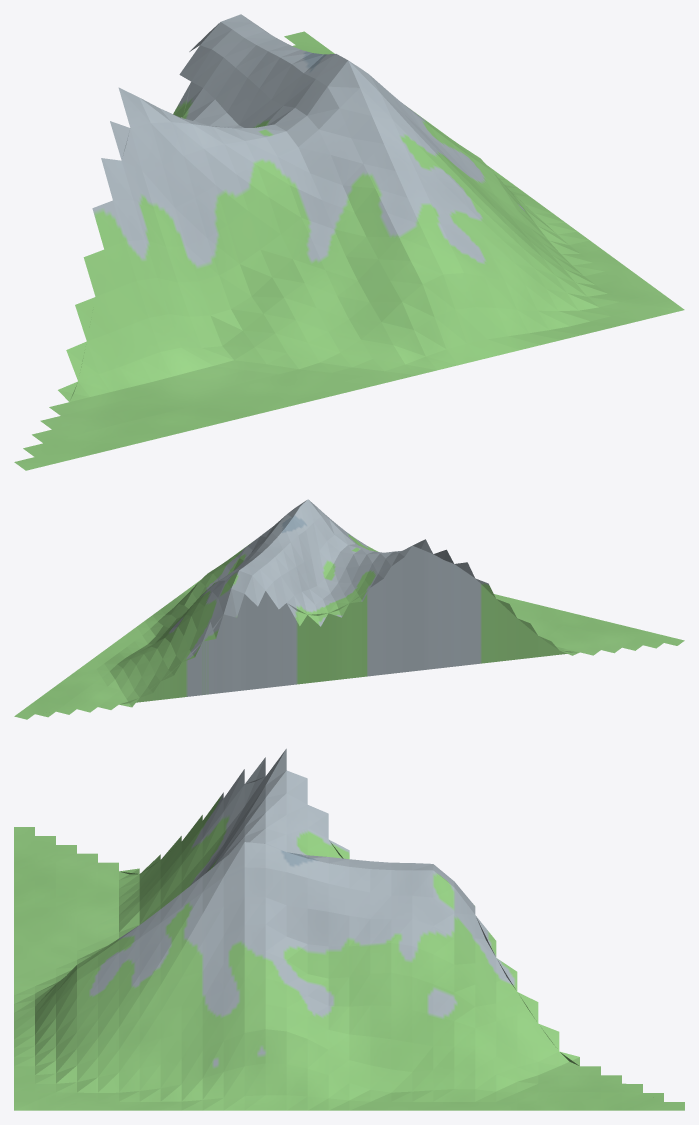
The model's file is Grass_RockyMountains_05_NE.obj.
3 views of the same model, one above another, from view 1: azimuth 30°, elevation 25°; view 2: azimuth 150°, elevation 25°; view 3: azimuth 270°, elevation 25° (orthographic). The views are drawn at different scales.
Size of the model in its own units: 10 by 3.05 by 10.
1 material, 1 textured.
